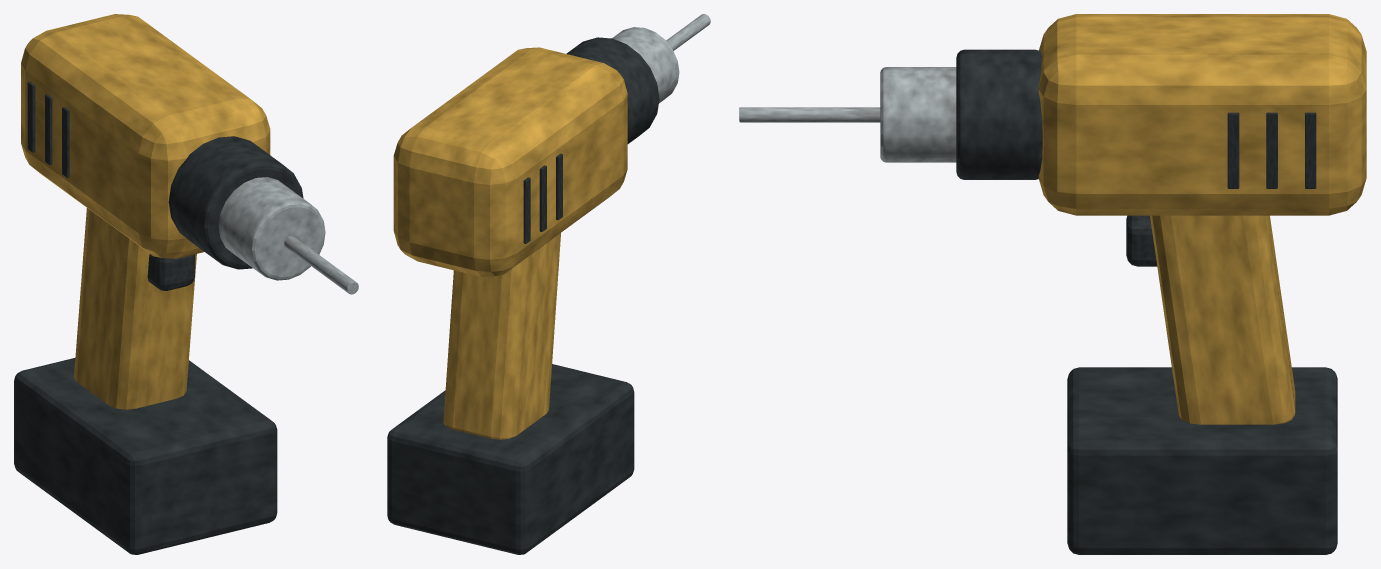
File: GR_CordlessDrill_04.glb
The picture shows the model from 3 angles, left to right: view 1: azimuth 30°, elevation 25°; view 2: azimuth 150°, elevation 25°; view 3: azimuth 270°, elevation 25°; orthographic projection. The views are drawn at different scales.
Visible parts, largest first — view 1: Static; view 2: Static; view 3: Static.
Part boxes in pixels (bbox=[...]): Static: bbox=[14, 14, 358, 554]; Static: bbox=[387, 14, 710, 554]; Static: bbox=[739, 14, 1366, 554].
Bounding box in the file's own units: 0.1 × 0.2755 × 0.325.
1 material, 1 textured.
